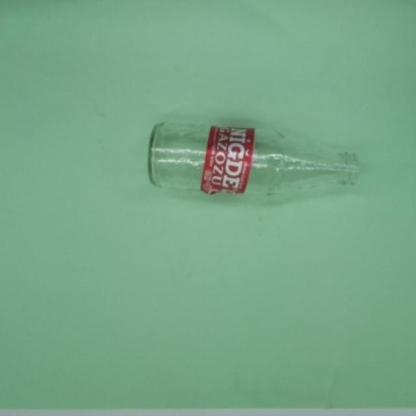Can: (148, 122, 360, 197)
